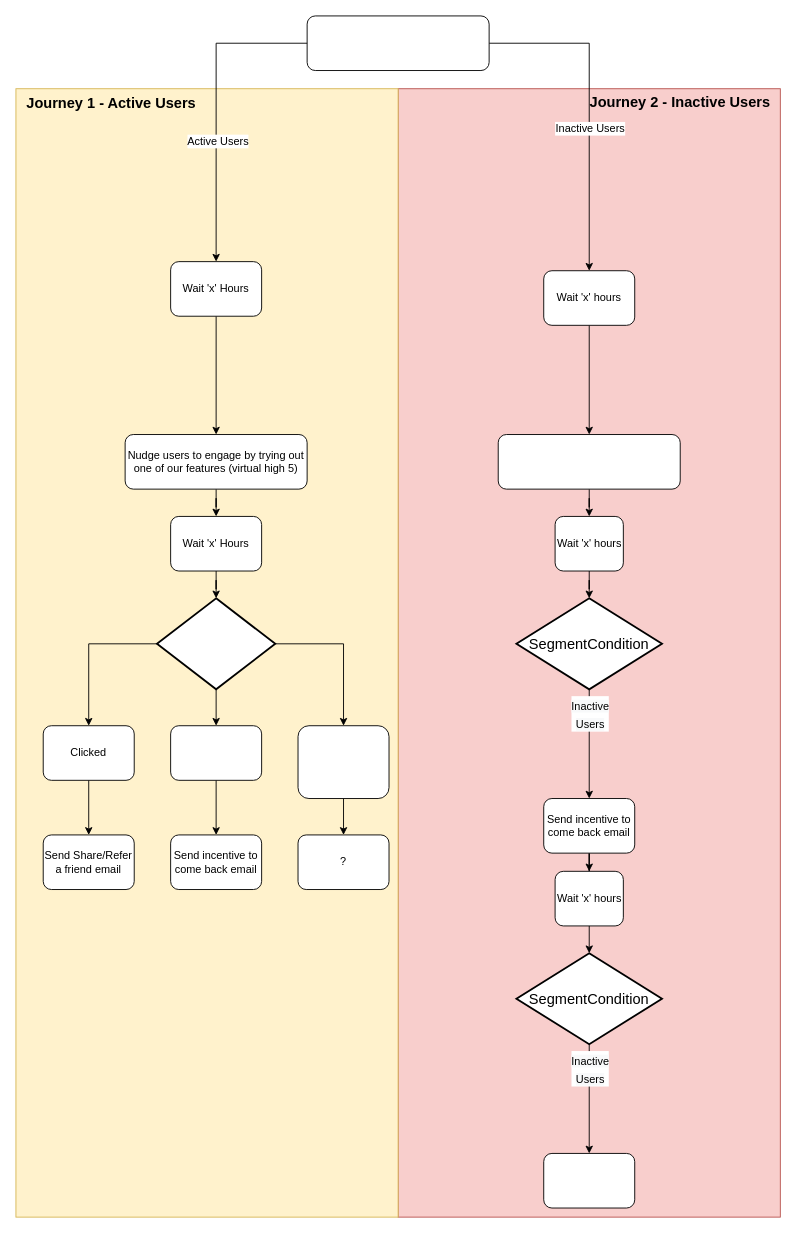
The diagram is 805 pixels wide and 1233 high, and some of its shapes have lost their labels. The shapes that lost their labels are listed below. From the top down, each one's box as (x1, y1, x2, y2) in pixels, then its label:
(306, 15, 489, 71): Welcome Email
(497, 434, 680, 489): Reafirm what our product does and try get them to become active
(156, 597, 276, 690): EmailCondition
(170, 725, 262, 780): Opened
(297, 725, 389, 799): Other
(543, 1153, 635, 1208): Offer Help
